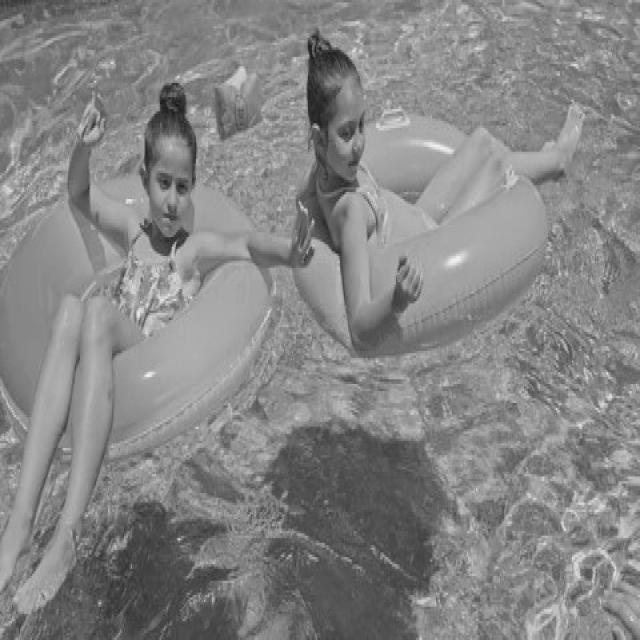swimming: (0, 31, 303, 618), (311, 7, 567, 414)
